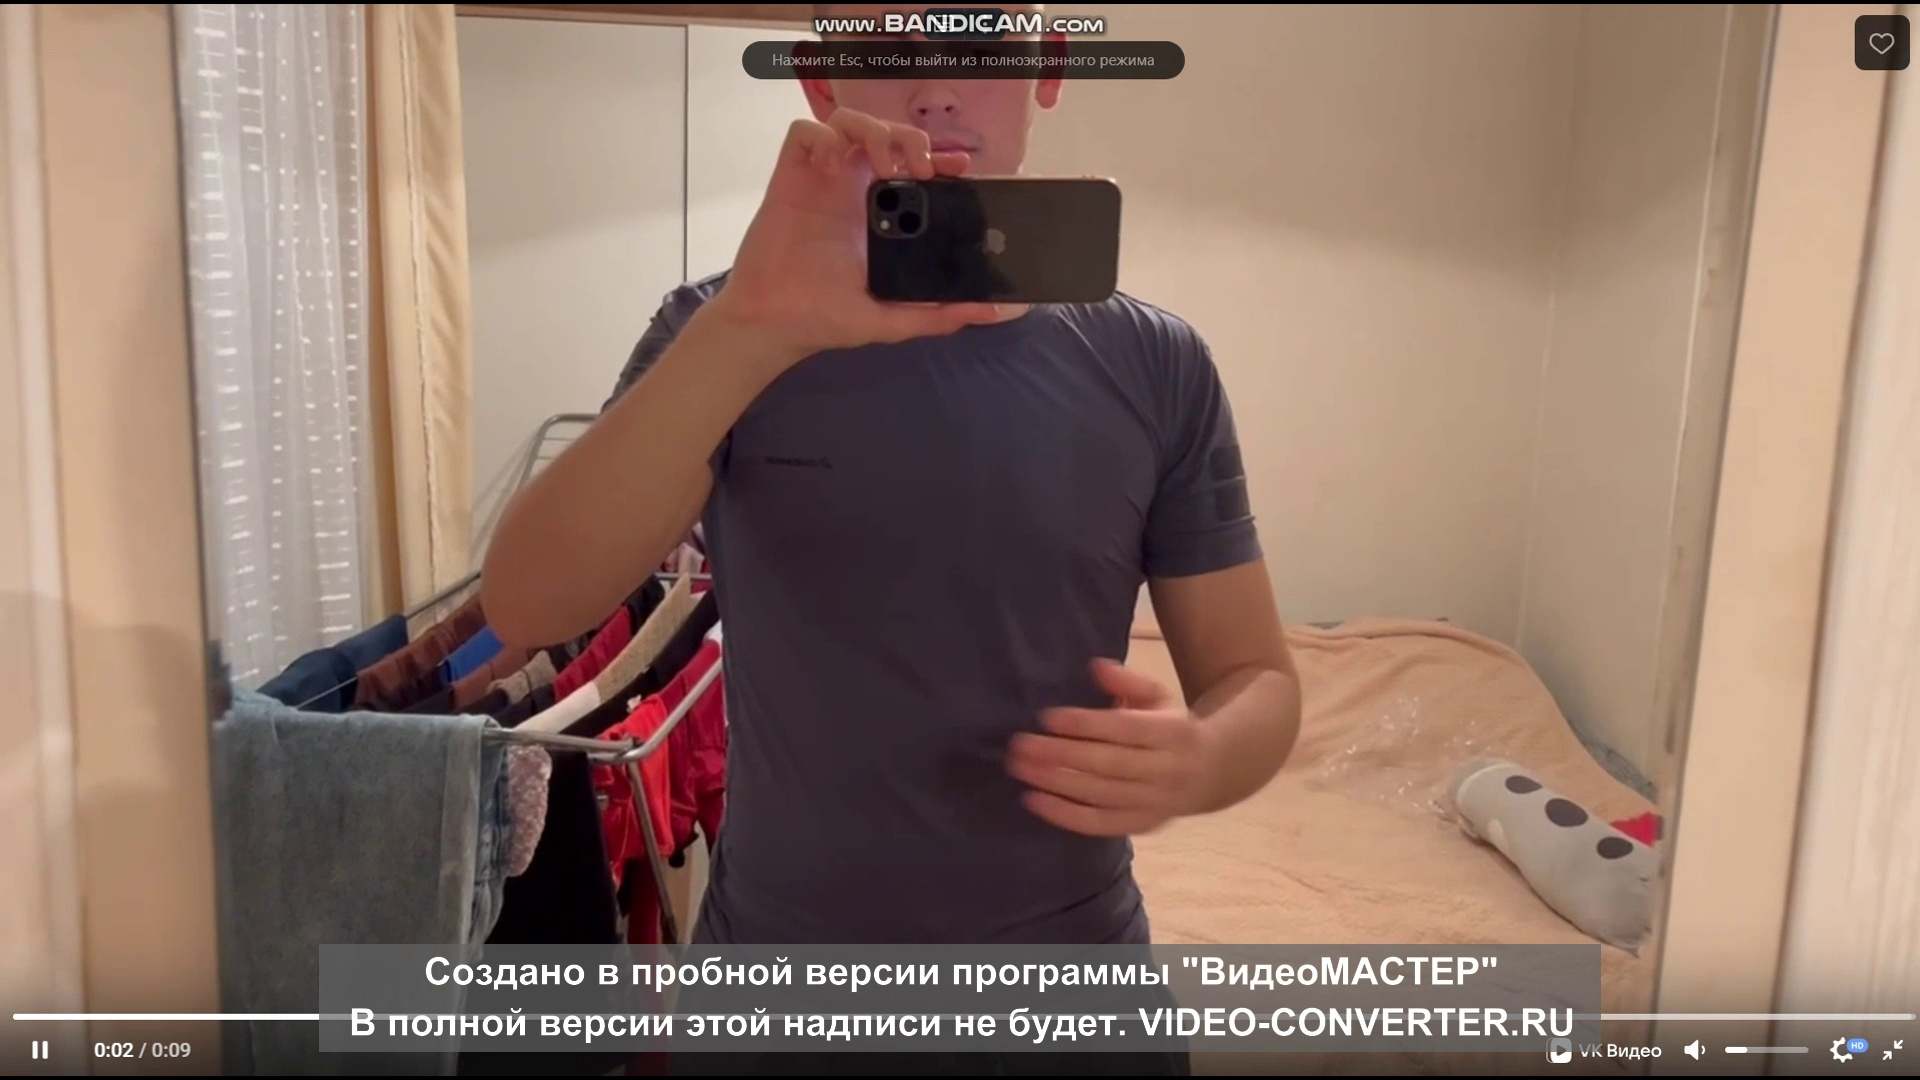Кисть: (1001, 658, 1200, 839)
